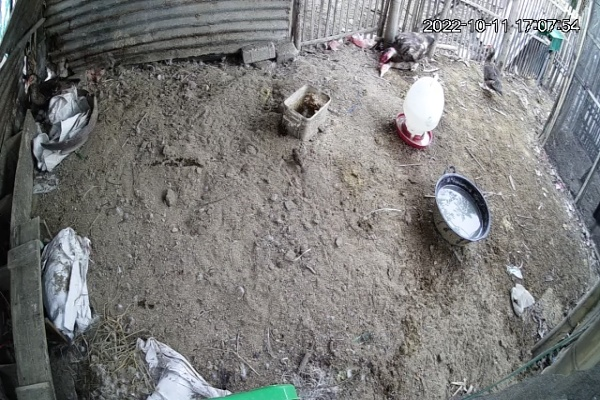Kawin: (377, 24, 433, 76)
